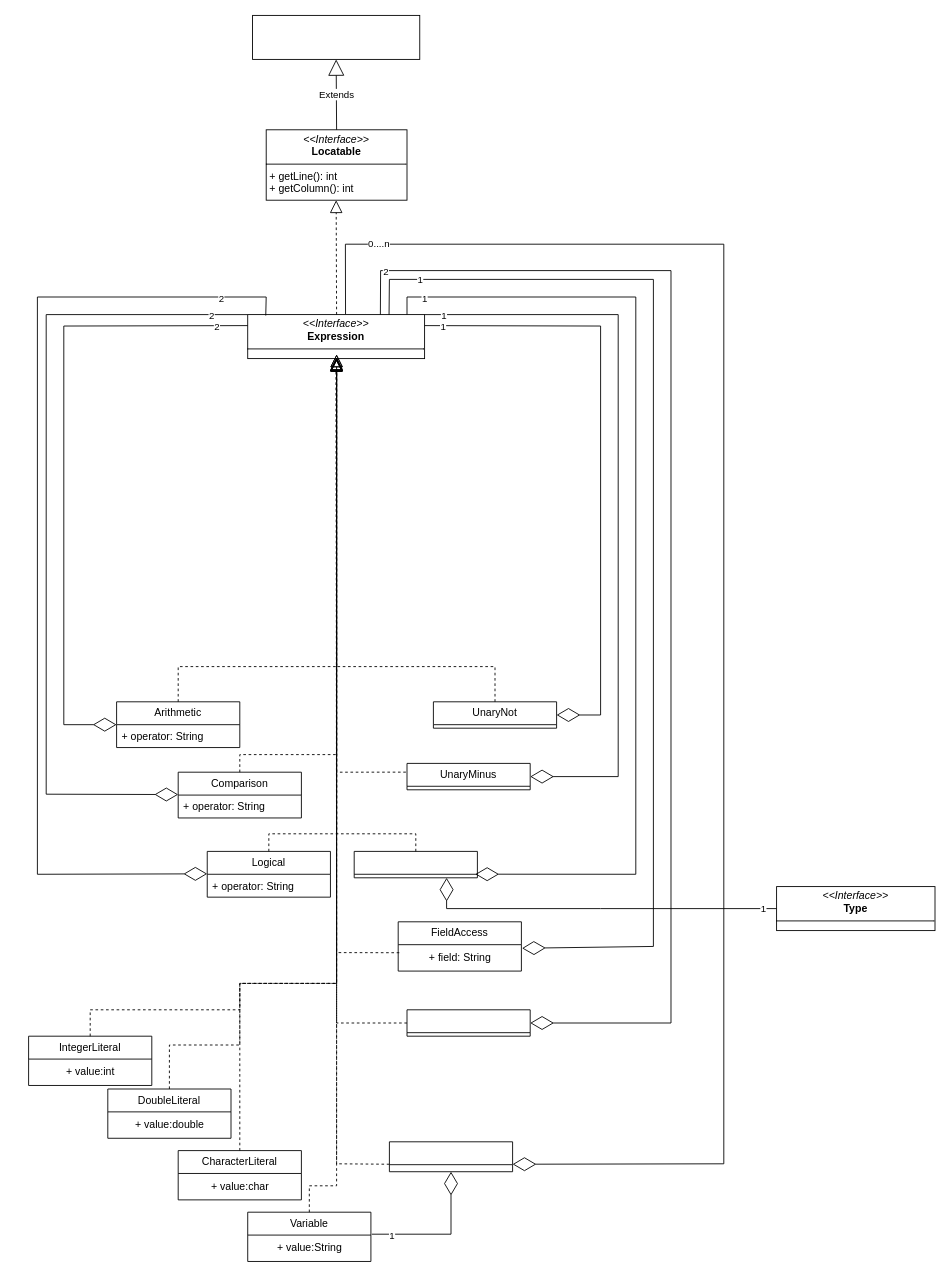
This 950x1277 diagram has some shape labels left out. Here are the shapes that lost their labels. From the top down, the centre of each, then its label:
At pixel 336 37: "<<Interface>> ASTNode".
At pixel 415 864: "Cast".
At pixel 468 1022: "ArrayAccess".
At pixel 451 1156: "FuncInvocation".
